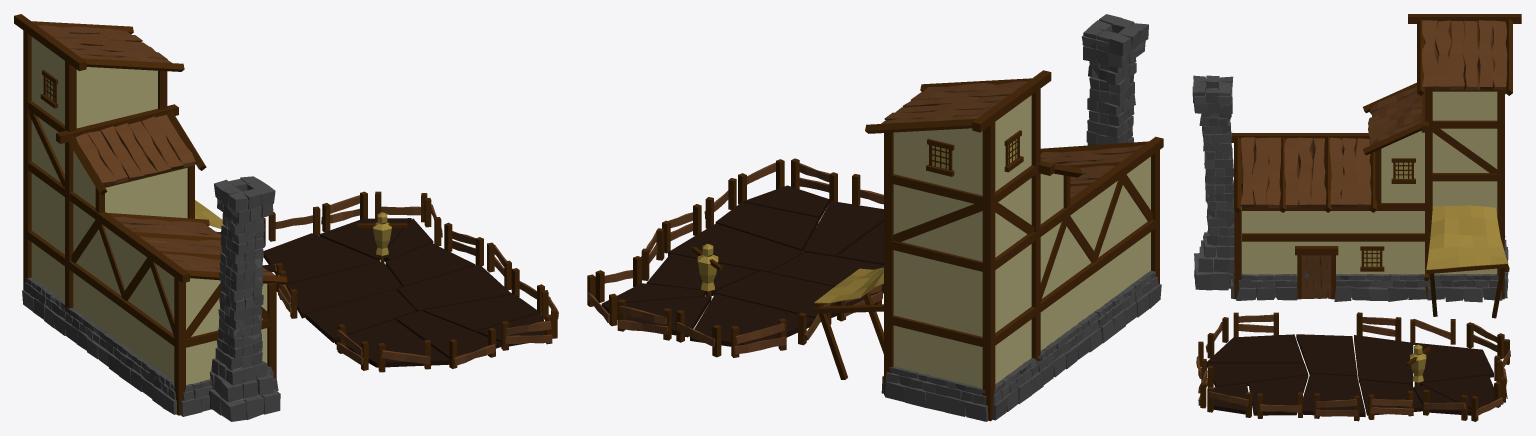
File: Farm.fbx
The picture shows the model from 3 angles, left to right: view 1: azimuth 30°, elevation 25°; view 2: azimuth 150°, elevation 25°; view 3: azimuth 270°, elevation 25°; orthographic projection. The views are drawn at different scales.
Visible parts, largest first — view 1: Cube.003; view 2: Cube.003; view 3: Cube.003.
Part boxes in pixels (x1=…): Cube.003: x1=14, y1=14, x2=558, y2=421; Cube.003: x1=587, y1=14, x2=1163, y2=421; Cube.003: x1=1192, y1=14, x2=1521, y2=421.
Size of the model in its own units: 1763 by 1191 by 1448.
